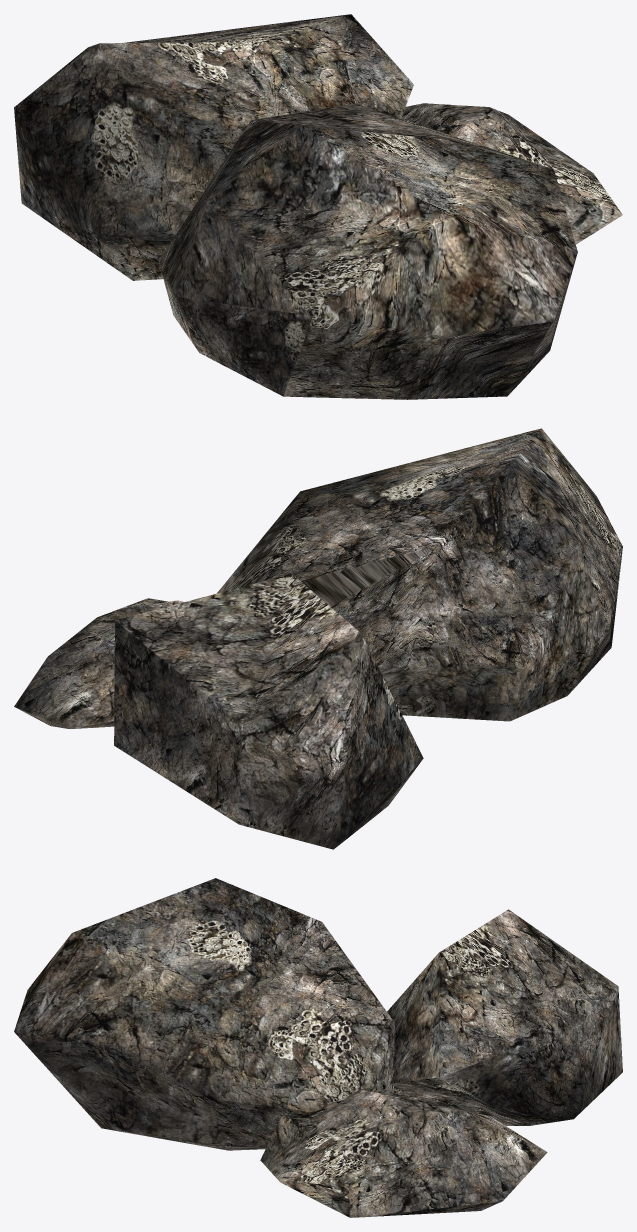
Rendered from pir_m_prp_dvj_rockGroupBare_d.fbx.
3 views of the same model, one above another, from view 1: azimuth 30°, elevation 25°; view 2: azimuth 150°, elevation 25°; view 3: azimuth 270°, elevation 25° (orthographic). The views are drawn at different scales.
Visible parts, largest first — view 1: pasted__rock_9, pasted__rock_13, pasted__rock_11; view 2: pasted__rock_9, pasted__rock_13, pasted__rock_11; view 3: pasted__rock_9, pasted__rock_13, pasted__rock_11.
Boxes of the visible parts, x1,y1,x2,y2 form: pasted__rock_9: (158, 103, 577, 399); pasted__rock_13: (14, 14, 413, 280); pasted__rock_11: (401, 103, 622, 244); pasted__rock_9: (217, 428, 622, 721); pasted__rock_13: (114, 574, 423, 849); pasted__rock_11: (14, 598, 184, 728); pasted__rock_9: (14, 878, 394, 1150); pasted__rock_13: (387, 909, 622, 1125); pasted__rock_11: (260, 1089, 547, 1217).
Bounding box in the file's own units: 2263 × 1191 × 3007.
Materials: 1 (1 with a texture image).
